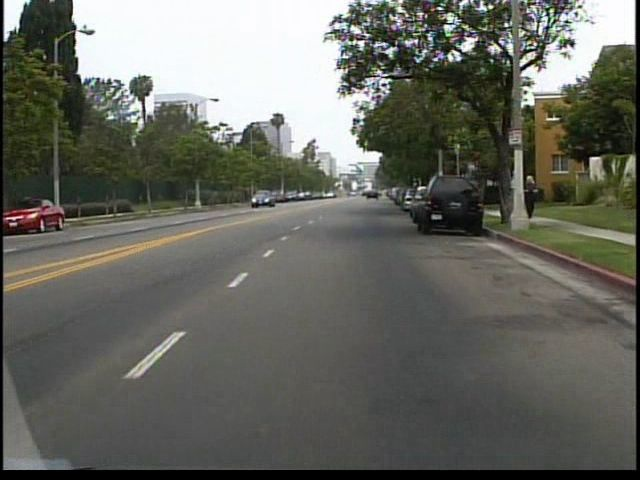person: (523, 170, 541, 219), (507, 165, 523, 213)
